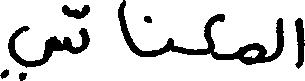X: (0, 21, 51, 80), (53, 0, 88, 58), (206, 9, 223, 64), (240, 38, 264, 69), (121, 0, 133, 57), (297, 13, 304, 73), (278, 13, 282, 61), (166, 33, 172, 56)
